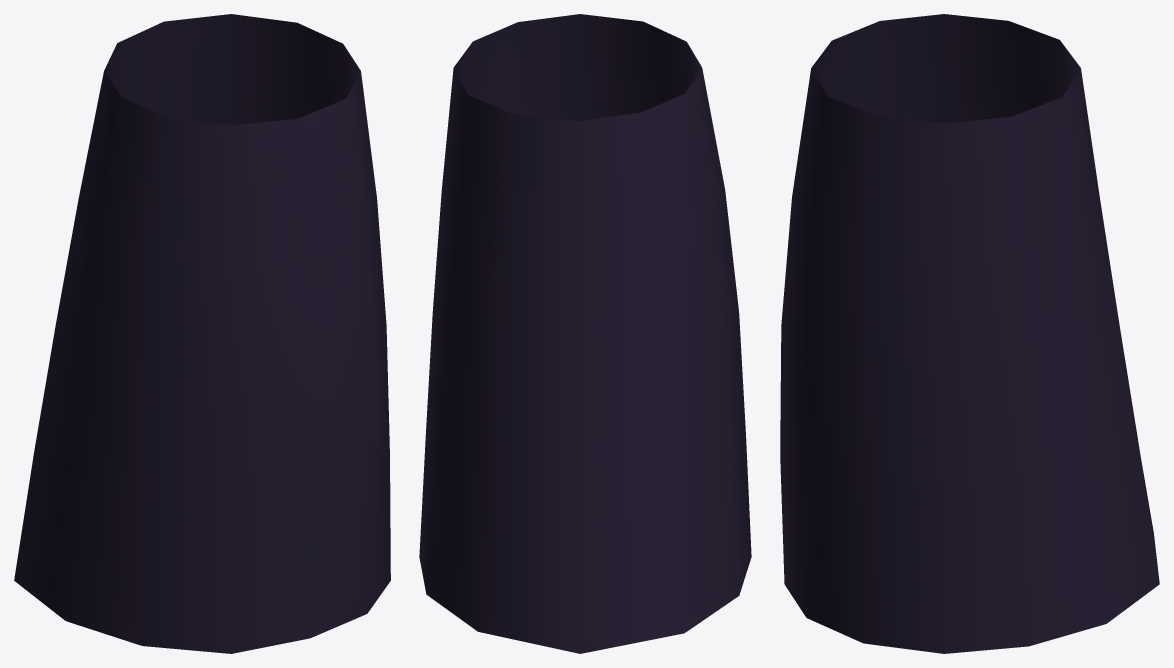
The model's file is witch_costume_cuisse.R.glb.
3 views of the same model, side by side, from view 1: azimuth 30°, elevation 25°; view 2: azimuth 150°, elevation 25°; view 3: azimuth 270°, elevation 25° (orthographic). The views are drawn at different scales.
Visible parts, largest first — view 1: witch_costume_cuisse.R; view 2: witch_costume_cuisse.R; view 3: witch_costume_cuisse.R.
Part boxes in pixels (bbox=[...]): witch_costume_cuisse.R: bbox=[14, 14, 390, 653]; witch_costume_cuisse.R: bbox=[419, 14, 751, 653]; witch_costume_cuisse.R: bbox=[780, 14, 1159, 653].
Bounding box in the file's own units: 0.2329 × 0.37 × 0.2466.
